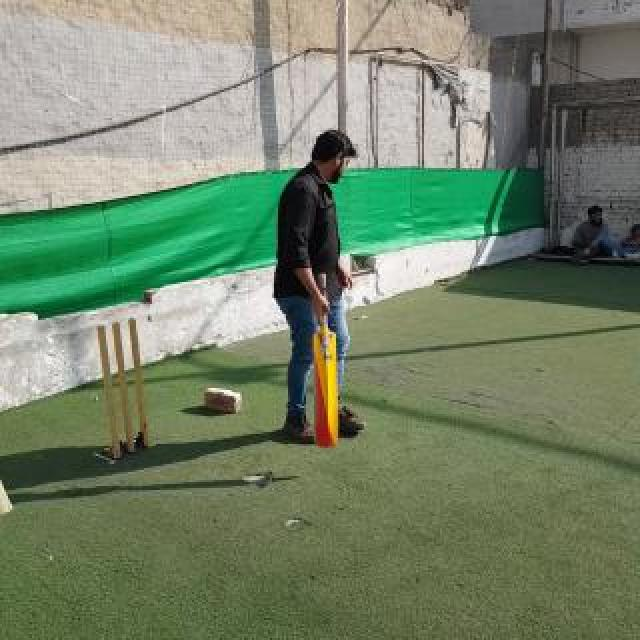ball: (362, 294, 372, 304)
bat: (313, 273, 339, 447)
